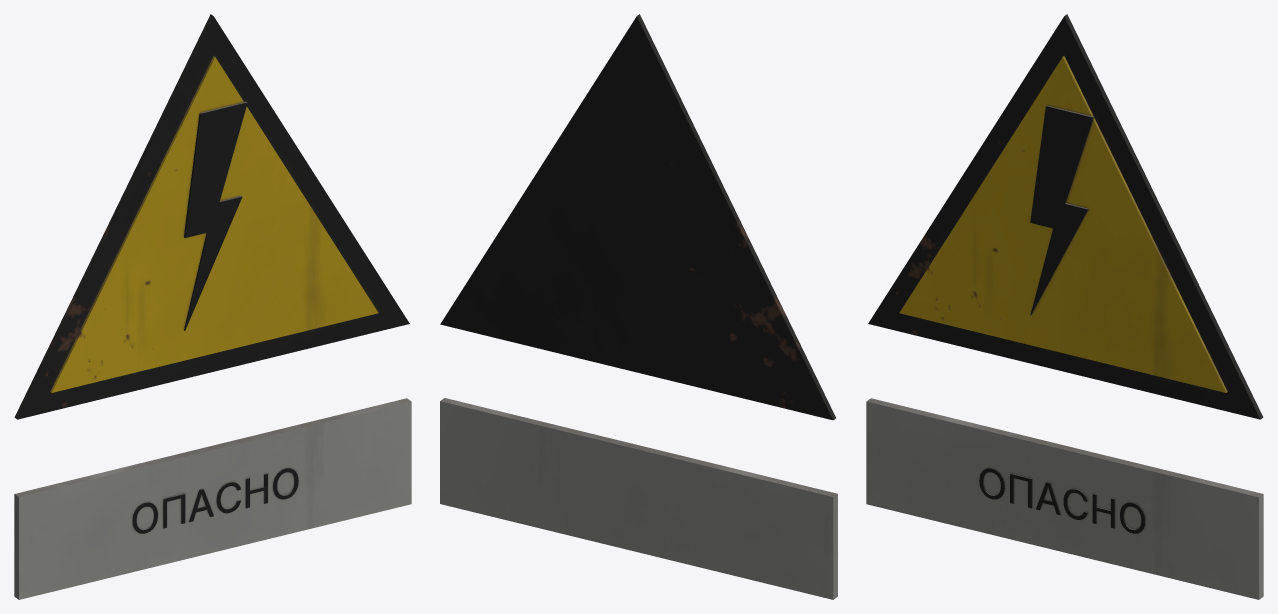
The model's file is SM_Sign_HighVoltage.fbx.
The picture shows the model from 3 angles, left to right: view 1: azimuth 30°, elevation 25°; view 2: azimuth 150°, elevation 25°; view 3: azimuth 330°, elevation 25°; orthographic projection.
Visible parts, largest first — view 1: SM_Sign_HighVoltage; view 2: SM_Sign_HighVoltage; view 3: SM_Sign_HighVoltage.
Boxes of the visible parts, bbox=[...] form: SM_Sign_HighVoltage: bbox=[14, 14, 411, 599]; SM_Sign_HighVoltage: bbox=[440, 14, 837, 599]; SM_Sign_HighVoltage: bbox=[866, 14, 1263, 599].
Bounding box in the file's own units: 0.3 × 0.3906 × 0.0075.
Materials: 1 (1 with a texture image).
